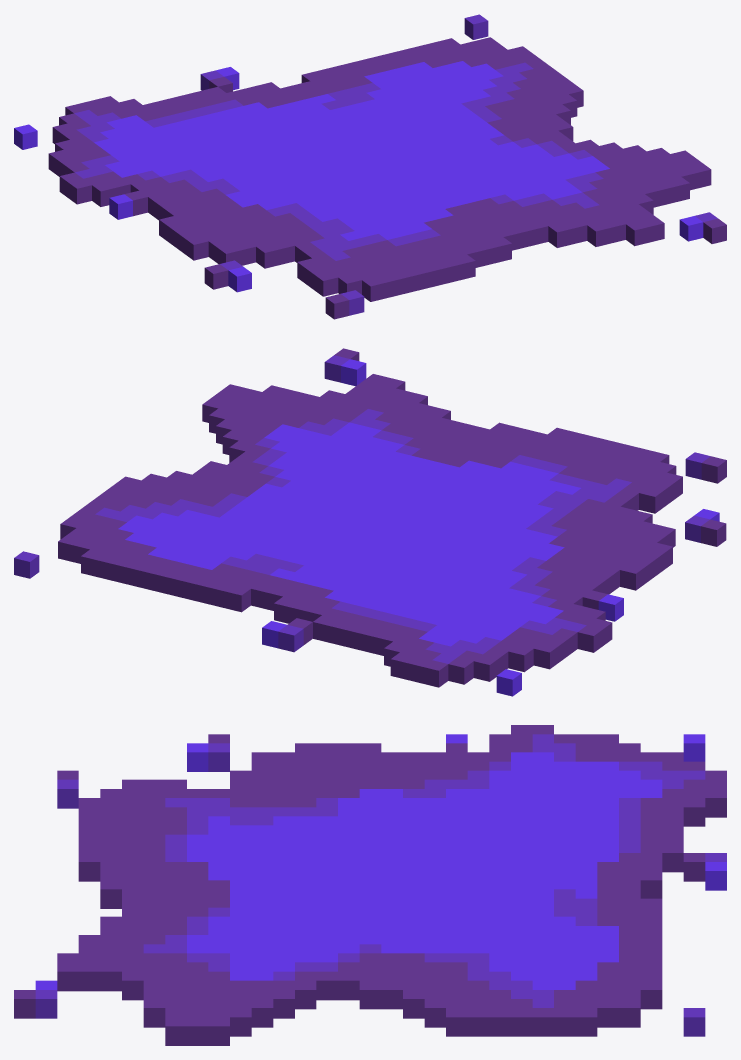
The model's file is agua_x4.obj.
3 views of the same model, one above another, from view 1: azimuth 30°, elevation 25°; view 2: azimuth 150°, elevation 25°; view 3: azimuth 270°, elevation 25° (orthographic). The views are drawn at different scales.
Bounding box in the file's own units: 3.3 × 0.1 × 3.3.
